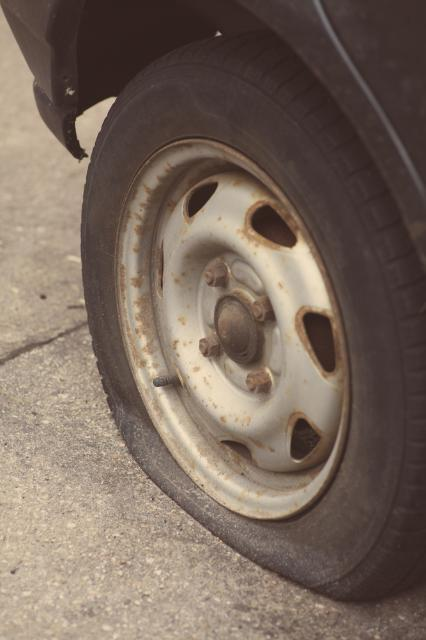tire flat: (82, 26, 426, 604)
